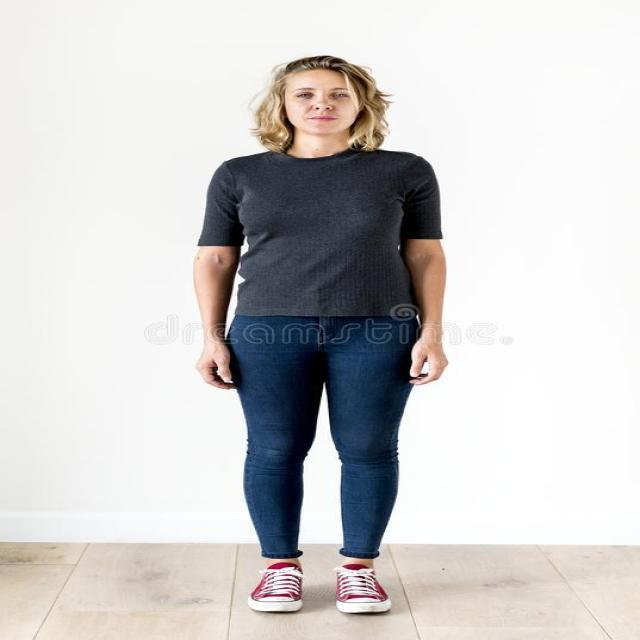Bare_Head: (247, 54, 394, 152)
NO_Safety_vest: (187, 142, 447, 319)
